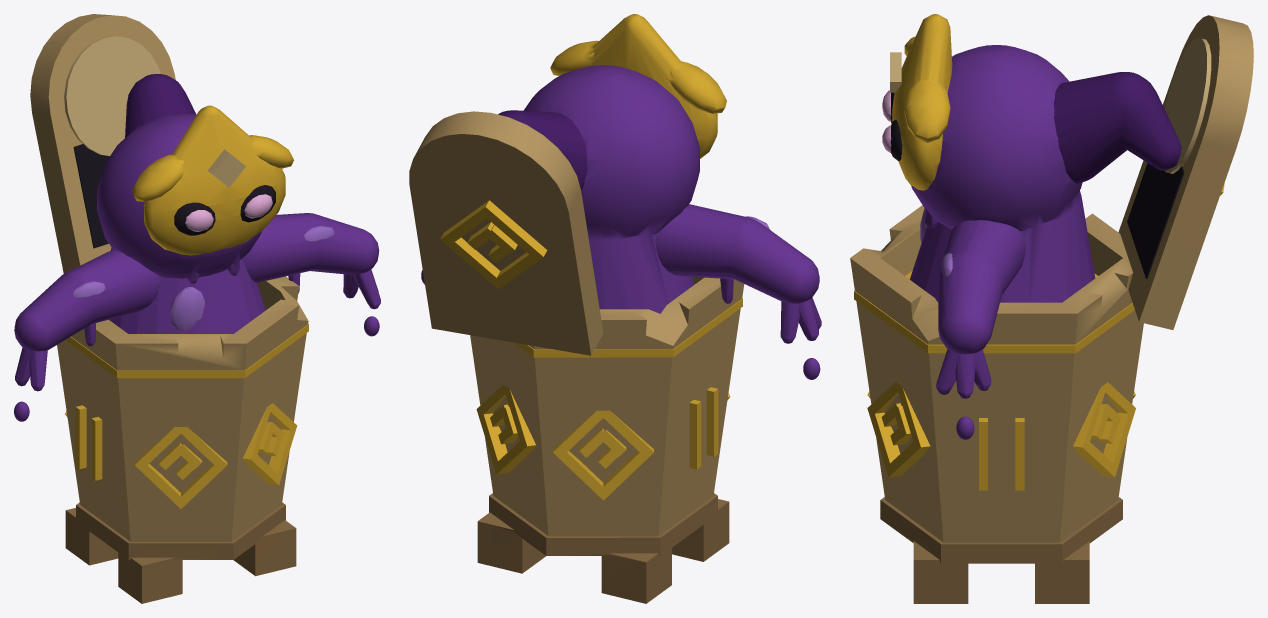
File: tombdune.glb
The picture shows the model from 3 angles, left to right: view 1: azimuth 30°, elevation 25°; view 2: azimuth 150°, elevation 25°; view 3: azimuth 270°, elevation 25°; orthographic projection. The views are drawn at different scales.
Visible parts, largest first — view 1: creature; view 2: creature; view 3: creature.
Boxes of the visible parts, left/top/right/bottom form: creature: left=14, top=14, right=380, bottom=603; creature: left=409, top=14, right=821, bottom=603; creature: left=850, top=14, right=1253, bottom=603.
Size of the model in its own units: 0.8079 by 1 by 0.6722.
